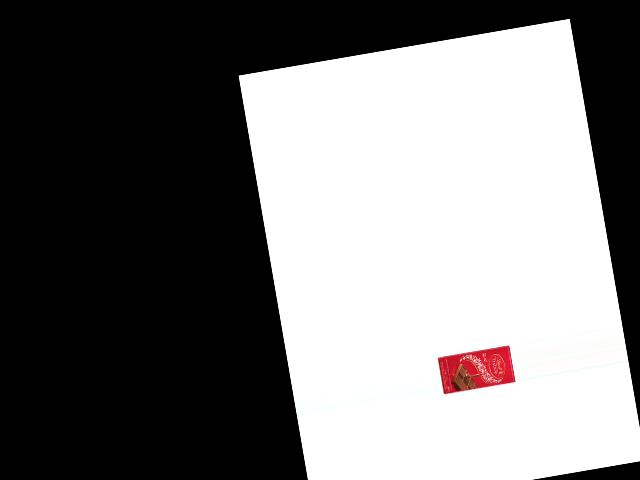chocolate: (438, 343, 515, 398)
